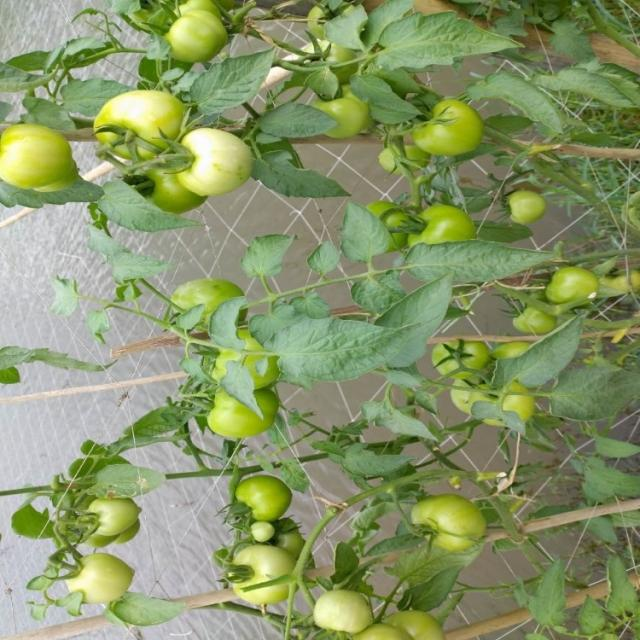tomato: (187, 529, 306, 610), (160, 118, 261, 203), (90, 80, 193, 160), (1, 113, 93, 197), (196, 335, 289, 404), (445, 365, 532, 435), (407, 94, 492, 165), (59, 548, 146, 613), (151, 1, 239, 64), (196, 394, 289, 453), (165, 276, 244, 339), (136, 149, 210, 215), (417, 486, 489, 552), (301, 580, 375, 640), (407, 195, 476, 258), (76, 490, 144, 549), (308, 82, 374, 137), (375, 580, 435, 640), (504, 299, 572, 351), (293, 27, 351, 80), (242, 466, 294, 521), (375, 132, 437, 178), (544, 261, 601, 311), (431, 335, 487, 383), (303, 1, 367, 36), (503, 186, 551, 231), (375, 194, 414, 244), (233, 515, 274, 552)
